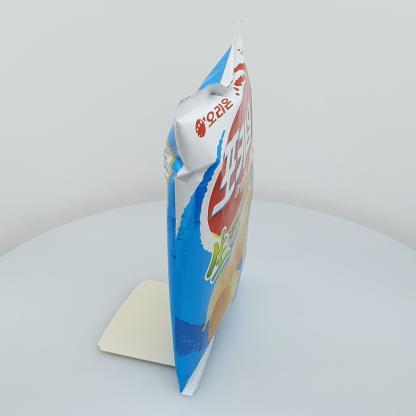Plastic Packaging: (164, 12, 254, 398)
